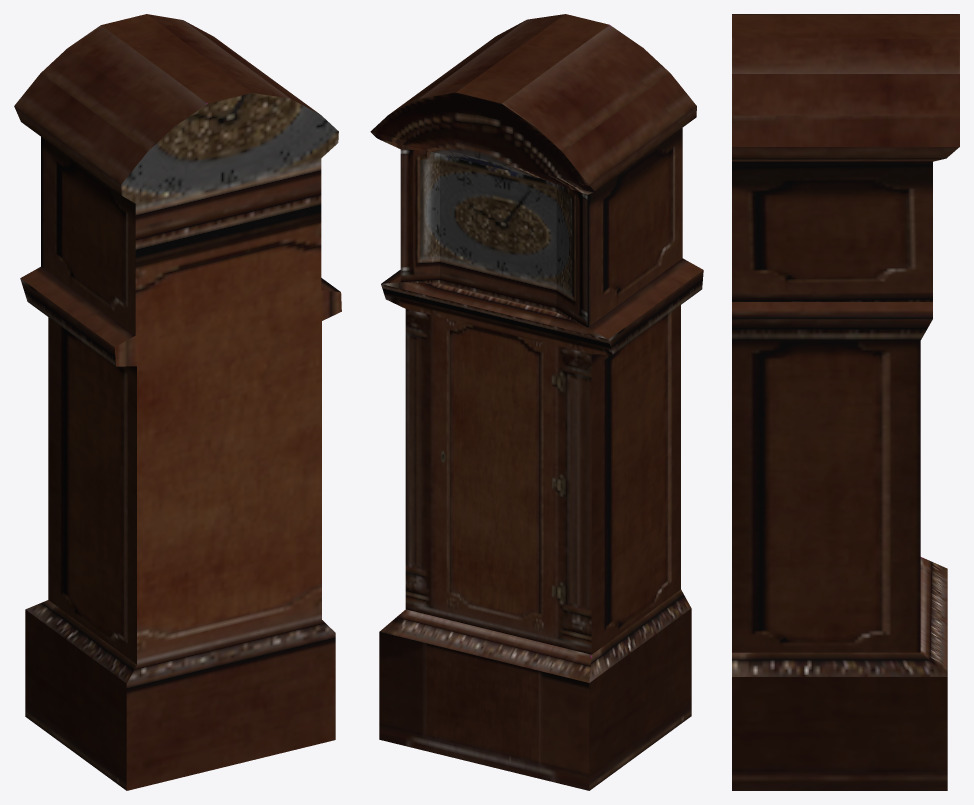
File: GRFACL00.fbx
3 renders of one model, left to right at view 1: azimuth 30°, elevation 25°; view 2: azimuth 150°, elevation 25°; view 3: azimuth 270°, elevation 25°, orthographic. The views are drawn at different scales.
Parts seen in each view (by area): view 1: Cube; view 2: Cube; view 3: Cube.
Part boxes in pixels (x1,y1,x2,y2): Cube: (14, 14, 341, 790); Cube: (370, 14, 703, 790); Cube: (732, 14, 959, 790).
Bounding box in the file's own units: 78.35 × 220 × 64.02.
1 material, 1 textured.
